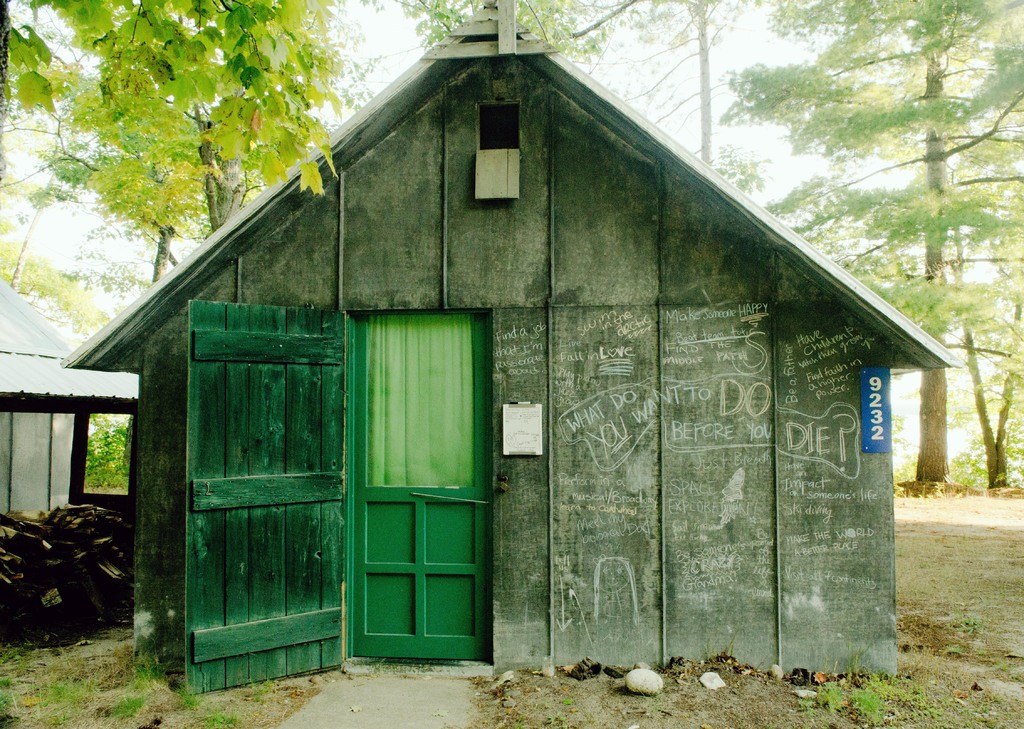Tree: (0, 0, 1023, 489)
